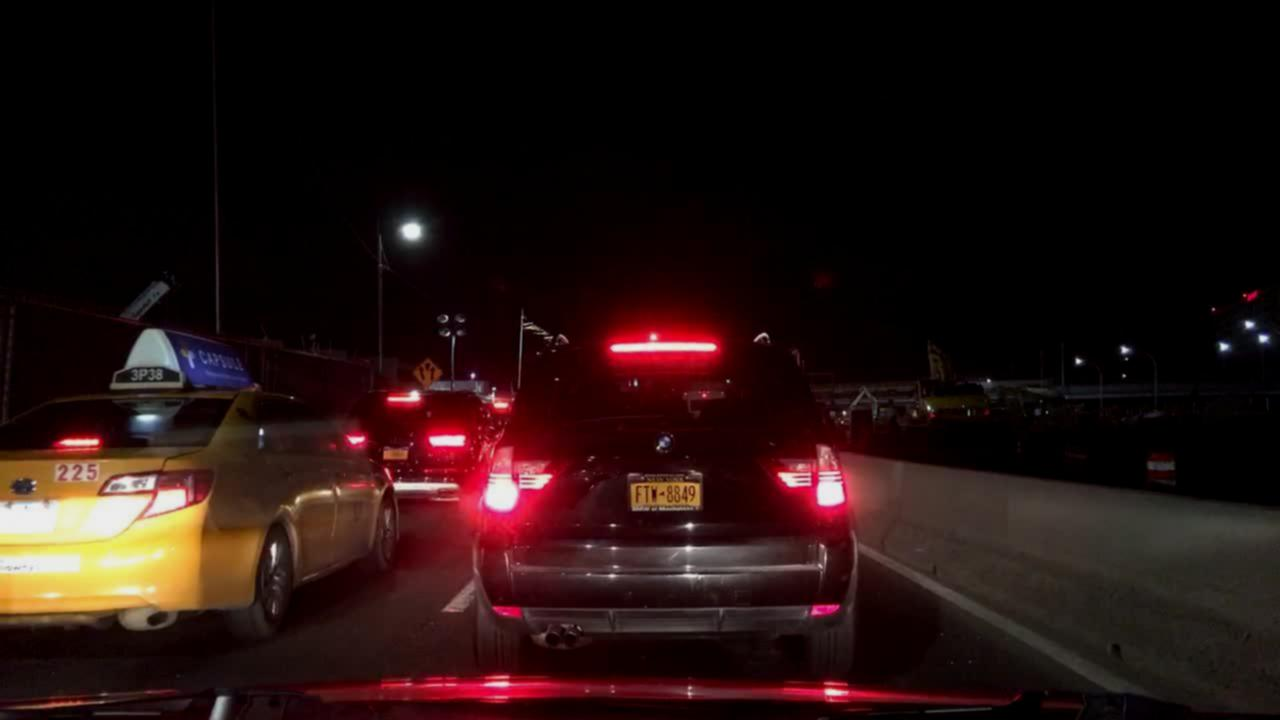Toyota: (8, 472, 46, 506)
bmw: (650, 427, 680, 459)
